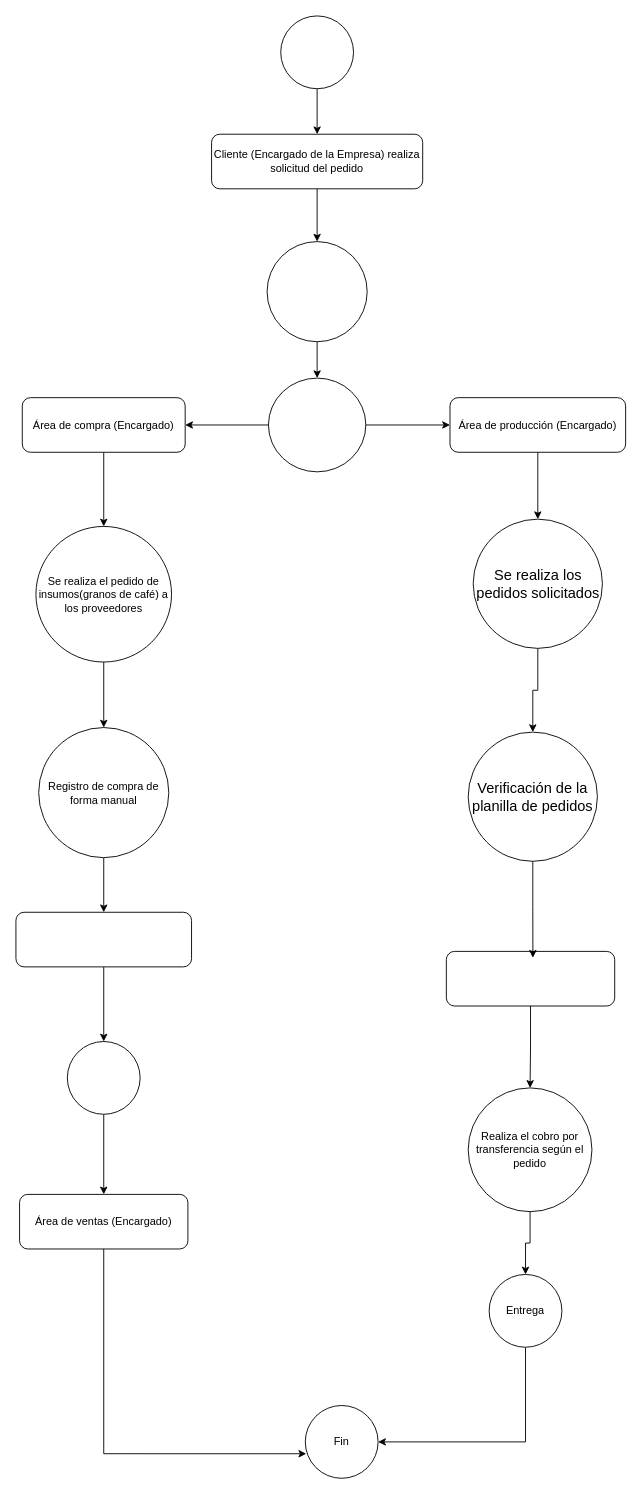
This 642x1494 diagram has some shape labels left out. Each missing label, with the centre of its shape:
Inicio: (x=317, y=52)
Proceso: (x=103, y=1077)
Registro de planillas de forma manual: (x=316, y=291)
Verificación de insumos: (x=317, y=424)
Área de producción(Encargado): (x=103, y=939)
Área de venta (Encargado): (x=530, y=978)
